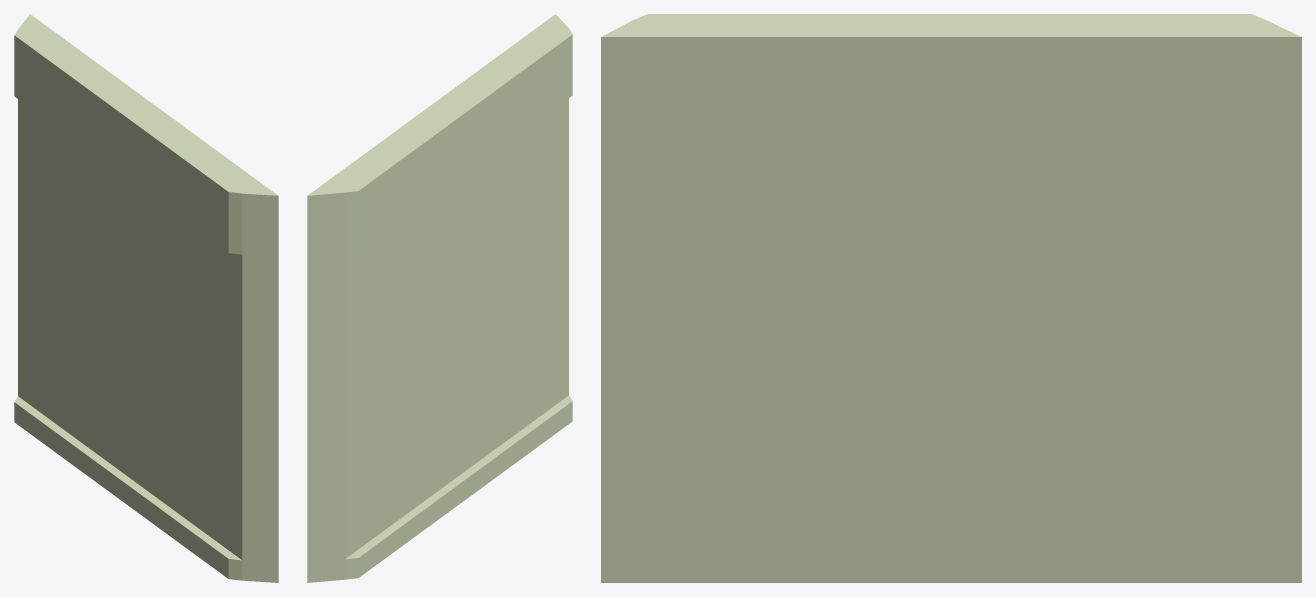
The model's file is BedRoom_Walls_001.fbx.
The picture shows the model from 3 angles, left to right: view 1: azimuth 30°, elevation 25°; view 2: azimuth 150°, elevation 25°; view 3: azimuth 270°, elevation 25°; orthographic projection. The views are drawn at different scales.
Parts seen in each view (by area): view 1: Walls.001; view 2: Walls.001; view 3: Walls.001.
Part boxes in pixels (x1,y1,x2,y2): Walls.001: [14, 14, 278, 582]; Walls.001: [307, 14, 572, 582]; Walls.001: [601, 14, 1301, 582].
Size of the model in its own units: 18.15 by 200 by 233.
